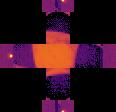earth: (33, 31, 78, 76)
